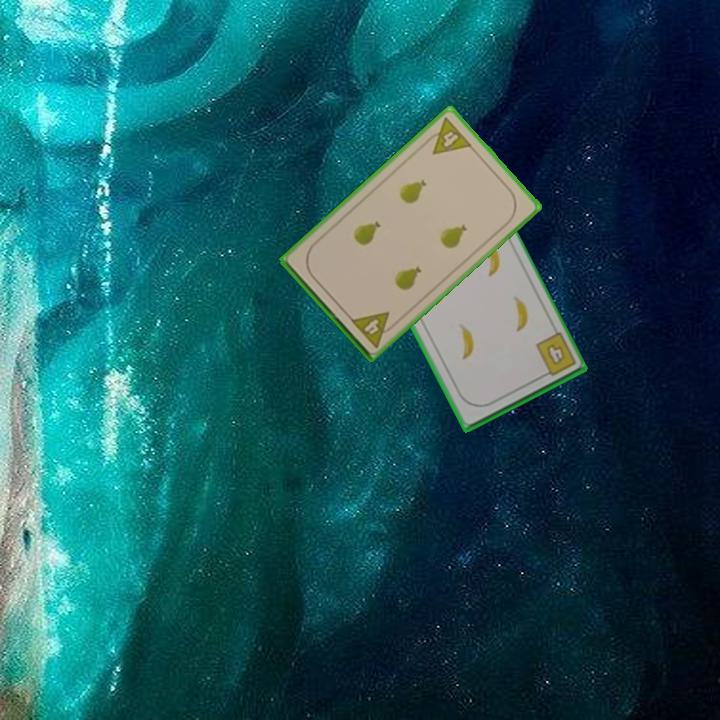4b: (532, 329, 579, 381)
4p: (420, 114, 475, 157), (347, 306, 400, 350)
